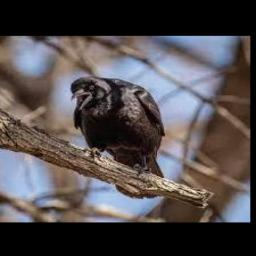Crow: (69, 76, 166, 199)
